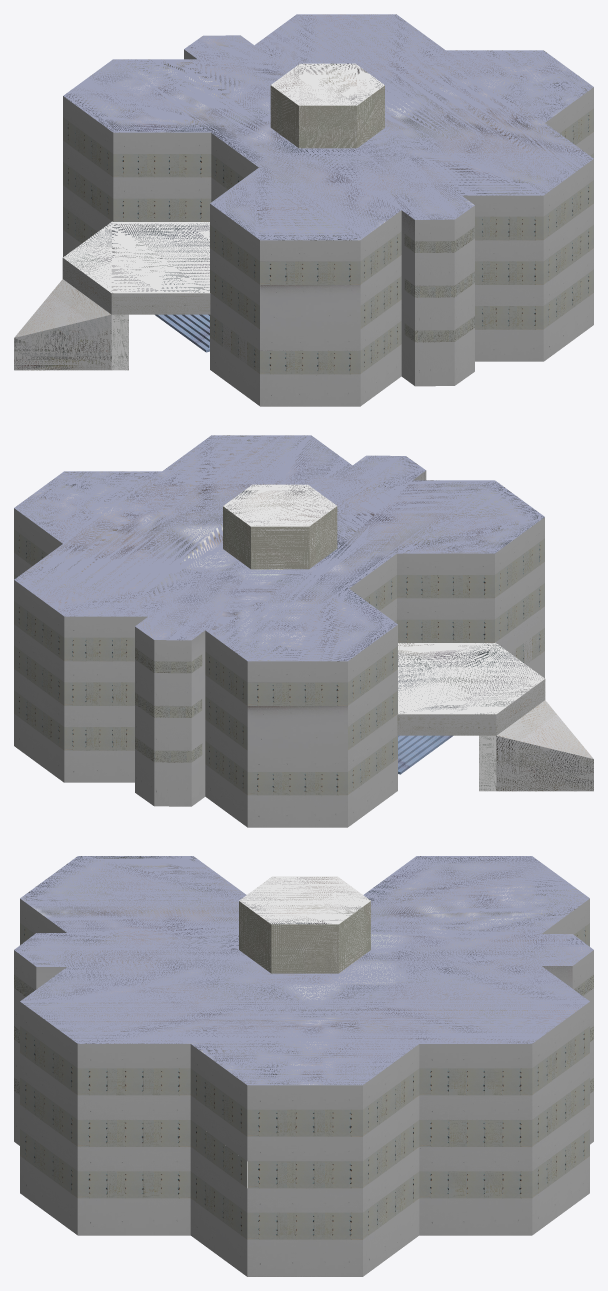
Rendered from fia_final3.fbx.
3 renders of one model, top to bottom at view 1: azimuth 30°, elevation 25°; view 2: azimuth 150°, elevation 25°; view 3: azimuth 270°, elevation 25°, orthographic. The views are drawn at different scales.
Parts seen in each view (by area): view 1: Model, Componente_1_17, Componente_1_18, Componente_1_24, Componente_1_8, Componente_1_23, Componente_1_21, Componente_1_22, Componente_1_11, Componente_1_25, Componente_1_26, Componente_1_39 (+9 smaller); view 2: Model, Componente_1_13, Componente_1_14, Componente_1_32, Componente_1_9, Componente_1_4, Componente_1_5, Componente_1_6, Componente_1_15, Componente_1_16, Componente_1_7, Componente_1_12 (+8 smaller); view 3: Model, Componente_1_27, Componente_1_29, Componente_1_31, Componente_1_38, Componente_1_40, Componente_1_15, Componente_1_26, Componente_1_16, Componente_1_25, Componente_1_28, Componente_1_1 (+3 smaller).
Boxes of the visible parts, left/top/right/bottom form: Model: left=14, top=14, right=593, bottom=406; Componente_1_17: left=260, top=261, right=360, bottom=284; Componente_1_18: left=260, top=351, right=360, bottom=374; Componente_1_24: left=113, top=154, right=211, bottom=177; Componente_1_8: left=113, top=198, right=211, bottom=221; Componente_1_23: left=475, top=216, right=543, bottom=240; Componente_1_21: left=475, top=306, right=543, bottom=329; Componente_1_22: left=475, top=261, right=543, bottom=284; Componente_1_11: left=63, top=162, right=113, bottom=221; Componente_1_25: left=543, top=269, right=593, bottom=328; Componente_1_26: left=543, top=225, right=593, bottom=284; Componente_1_39: left=63, top=117, right=113, bottom=176; Model: left=14, top=435, right=593, bottom=827; Componente_1_13: left=247, top=682, right=347, bottom=705; Componente_1_14: left=247, top=772, right=347, bottom=795; Componente_1_32: left=397, top=575, right=494, bottom=598; Componente_1_9: left=397, top=619, right=494, bottom=642; Componente_1_4: left=64, top=637, right=134, bottom=661; Componente_1_5: left=64, top=682, right=134, bottom=705; Componente_1_6: left=64, top=727, right=134, bottom=750; Componente_1_15: left=14, top=646, right=64, bottom=705; Componente_1_16: left=14, top=690, right=64, bottom=749; Componente_1_7: left=495, top=538, right=544, bottom=597; Componente_1_12: left=348, top=735, right=397, bottom=794; Model: left=14, top=856, right=593, bottom=1276; Componente_1_27: left=247, top=1109, right=362, bottom=1136; Componente_1_29: left=247, top=1212, right=362, bottom=1239; Componente_1_31: left=77, top=1068, right=190, bottom=1095; Componente_1_38: left=77, top=1171, right=190, bottom=1198; Componente_1_40: left=77, top=1120, right=190, bottom=1146; Componente_1_15: left=532, top=1078, right=589, bottom=1146; Componente_1_26: left=20, top=1078, right=77, bottom=1146; Componente_1_16: left=532, top=1129, right=589, bottom=1197; Componente_1_25: left=20, top=1129, right=77, bottom=1197; Componente_1_28: left=20, top=1026, right=77, bottom=1094; Componente_1_1: left=190, top=1172, right=247, bottom=1239.
Size of the model in its own units: 42.25 by 15.2 by 33.18.
